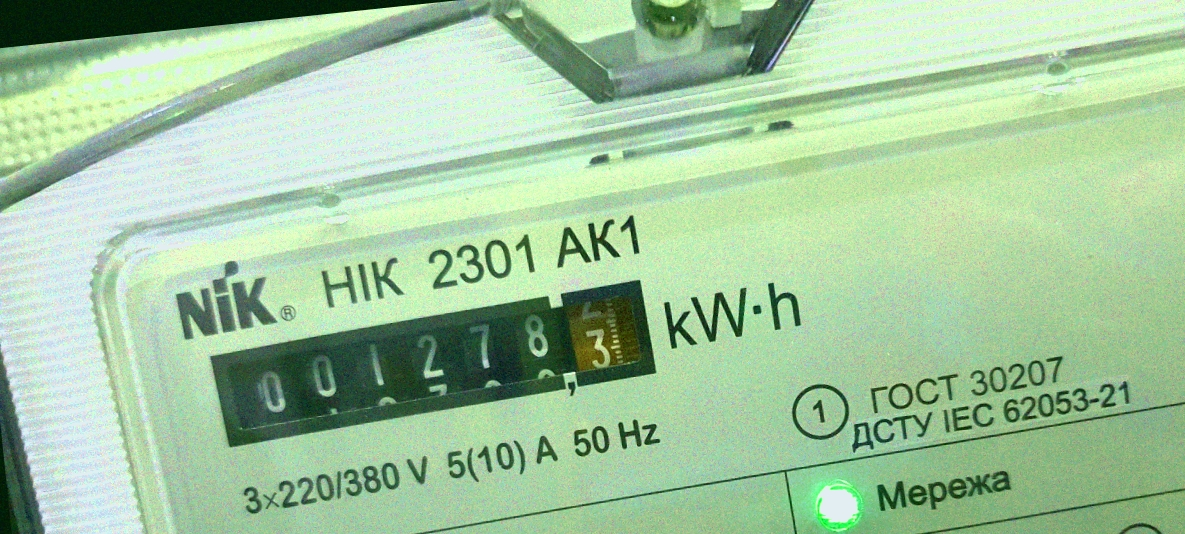0: (257, 365, 290, 416), (309, 351, 338, 400)
1: (366, 339, 388, 389)
2: (414, 330, 445, 380), (576, 298, 604, 322)
3: (583, 323, 613, 369)
7: (468, 320, 495, 371)
8: (521, 311, 551, 360)
screen: (187, 267, 677, 458)
